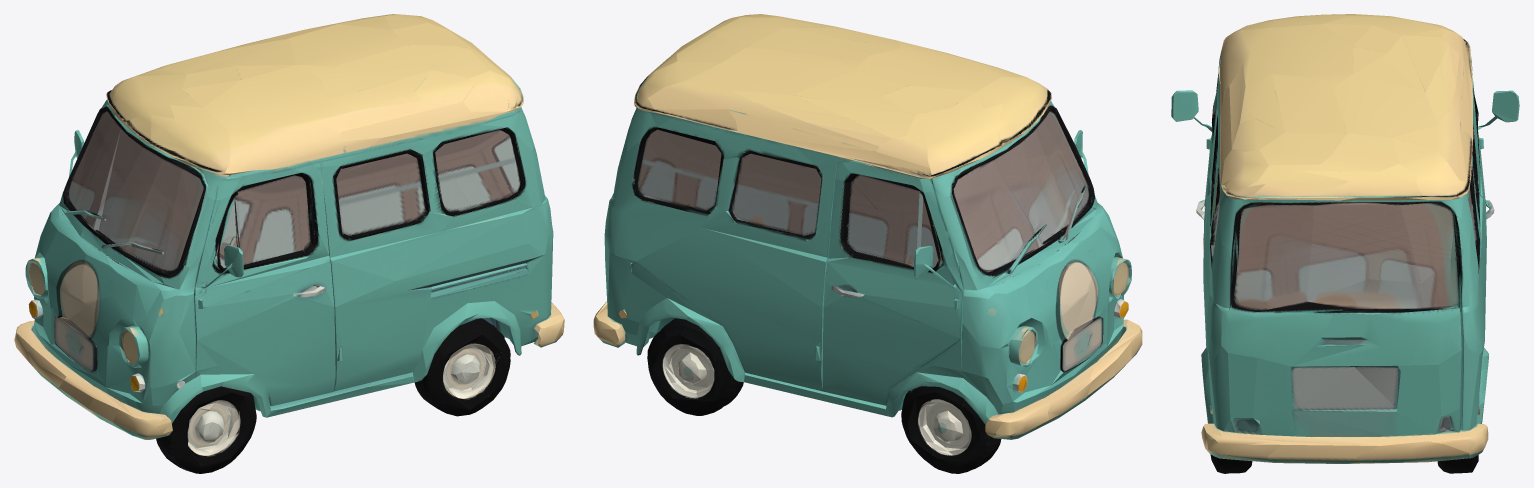
Rendered from van.glb.
The picture shows the model from 3 angles, left to right: view 1: azimuth 30°, elevation 25°; view 2: azimuth 150°, elevation 25°; view 3: azimuth 270°, elevation 25°; orthographic projection. The views are drawn at different scales.
Size of the model in its own units: 1.9 by 1.33 by 1.23.
1 material, 1 textured.
